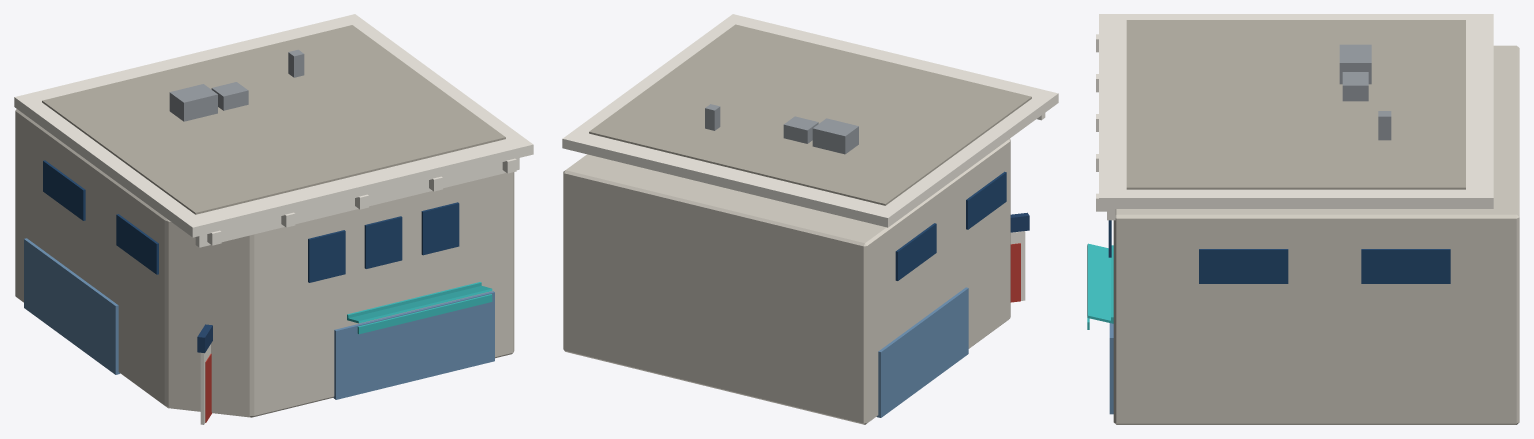
The model's file is corner_w14_f2.glb.
3 views of the same model, side by side, from view 1: azimuth 30°, elevation 25°; view 2: azimuth 150°, elevation 25°; view 3: azimuth 270°, elevation 25° (orthographic). The views are drawn at different scales.
Visible parts, largest first — view 1: lwalls, roofslab, corn, shopf, shops, frieze, win.002, win.001, win, hvac, sb, sb.002 (+5 smaller); view 2: lwalls, roofslab, corn, shops, sb.002, hvac, sb, hvac2, cdoor, cfr; view 3: lwalls, roofslab, corn, sb.001, sb.003, awn, hvac, hvac2, shopf, pipe.
Part boxes in pixels (<box>): lwalls: <box>15,109,514,417</box>; roofslab: <box>42,25,505,214</box>; corn: <box>14,14,533,237</box>; shopf: <box>333,291,494,399</box>; shops: <box>24,238,120,374</box>; frieze: <box>195,158,519,247</box>; win.002: <box>421,202,459,255</box>; win.001: <box>364,216,402,268</box>; win: <box>308,230,345,282</box>; hvac: <box>169,84,217,121</box>; sb: <box>116,214,158,274</box>; sb.002: <box>43,160,85,220</box>; lwalls: <box>563,139,1010,424</box>; roofslab: <box>589,24,1031,205</box>; corn: <box>562,14,1058,227</box>; shops: <box>876,287,968,417</box>; sb.002: <box>895,223,936,280</box>; hvac: <box>812,118,858,154</box>; sb: <box>966,171,1006,229</box>; hvac2: <box>783,116,818,143</box>; cdoor: <box>1010,243,1020,302</box>; cfr: <box>1010,231,1025,300</box>; lwalls: <box>1113,45,1519,424</box>; roofslab: <box>1126,20,1465,189</box>; corn: <box>1099,14,1493,208</box>; sb.001: <box>1199,249,1288,283</box>; sb.003: <box>1361,249,1450,283</box>; awn: <box>1087,243,1113,323</box>; hvac: <box>1339,44,1371,84</box>; hvac2: <box>1342,72,1368,101</box>; shopf: <box>1109,323,1113,414</box>; pipe: <box>1378,111,1391,140</box>.
Bounding box in the file's own units: 15 × 9.9 × 14.91.
